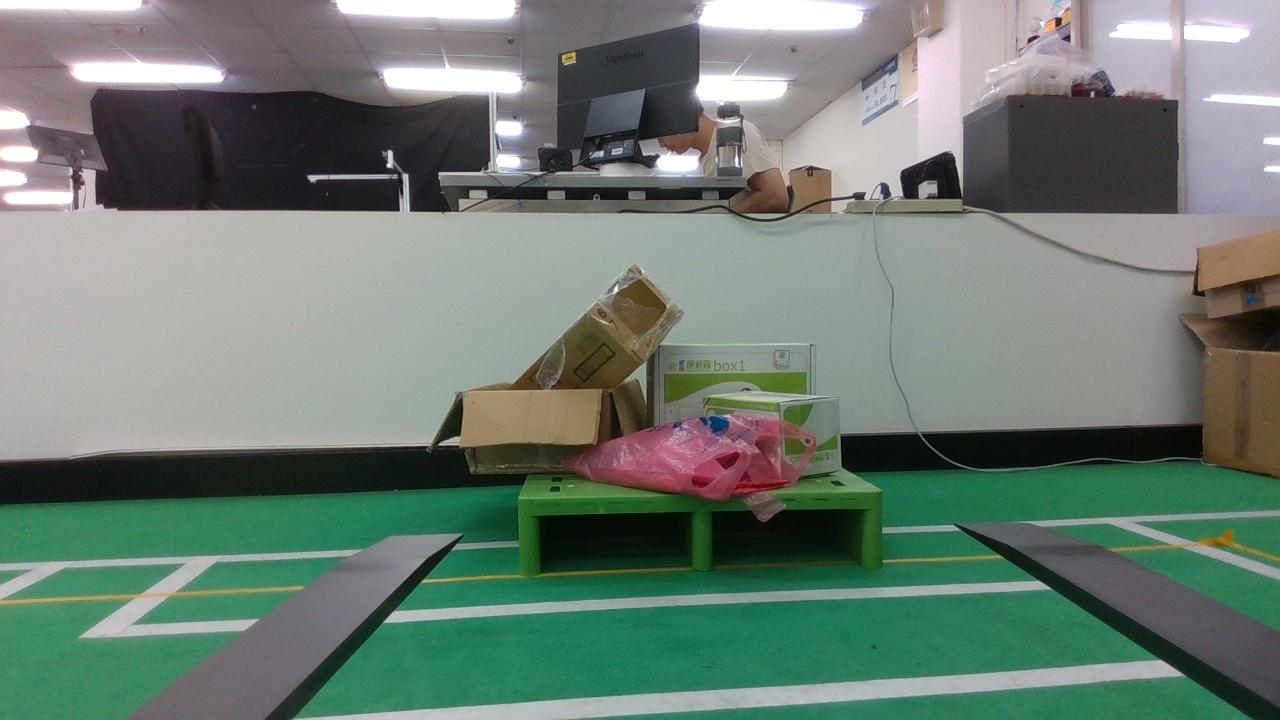Pallet: (518, 492, 883, 575)
